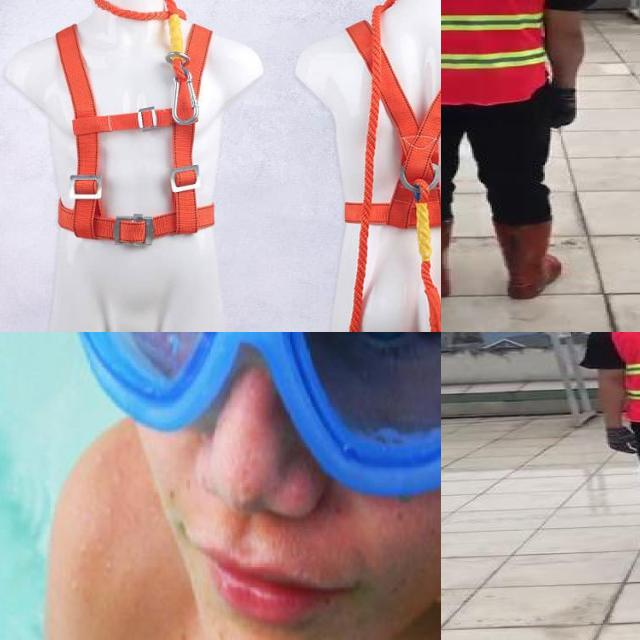Harness: (48, 19, 227, 259), (329, 12, 441, 233)
boots: (490, 216, 561, 300), (441, 219, 454, 300)
face_nomask: (123, 332, 440, 621)
glasses: (51, 332, 441, 501)
hand_glove: (601, 427, 640, 456), (550, 88, 577, 129)
person: (441, 0, 601, 304), (580, 332, 640, 571)
vest: (441, 0, 555, 104)
